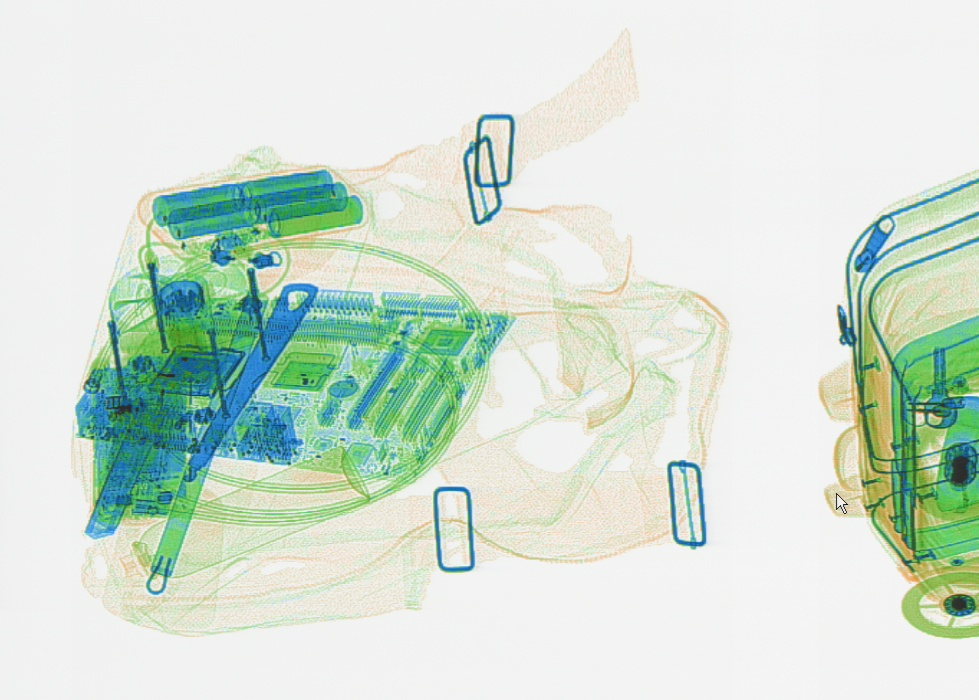knife: (77, 389, 170, 547)
powerbank: (137, 163, 367, 263)
